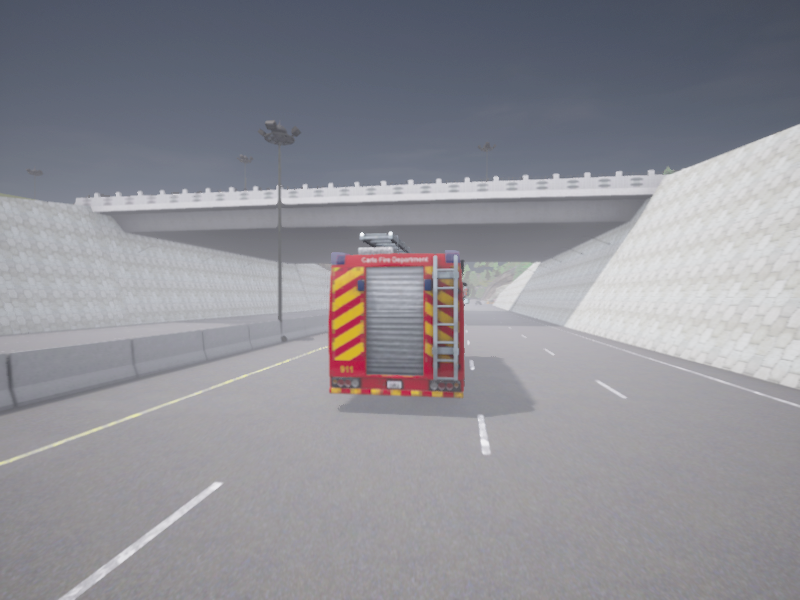vehicle: (329, 232, 469, 397), (475, 300, 480, 304)
